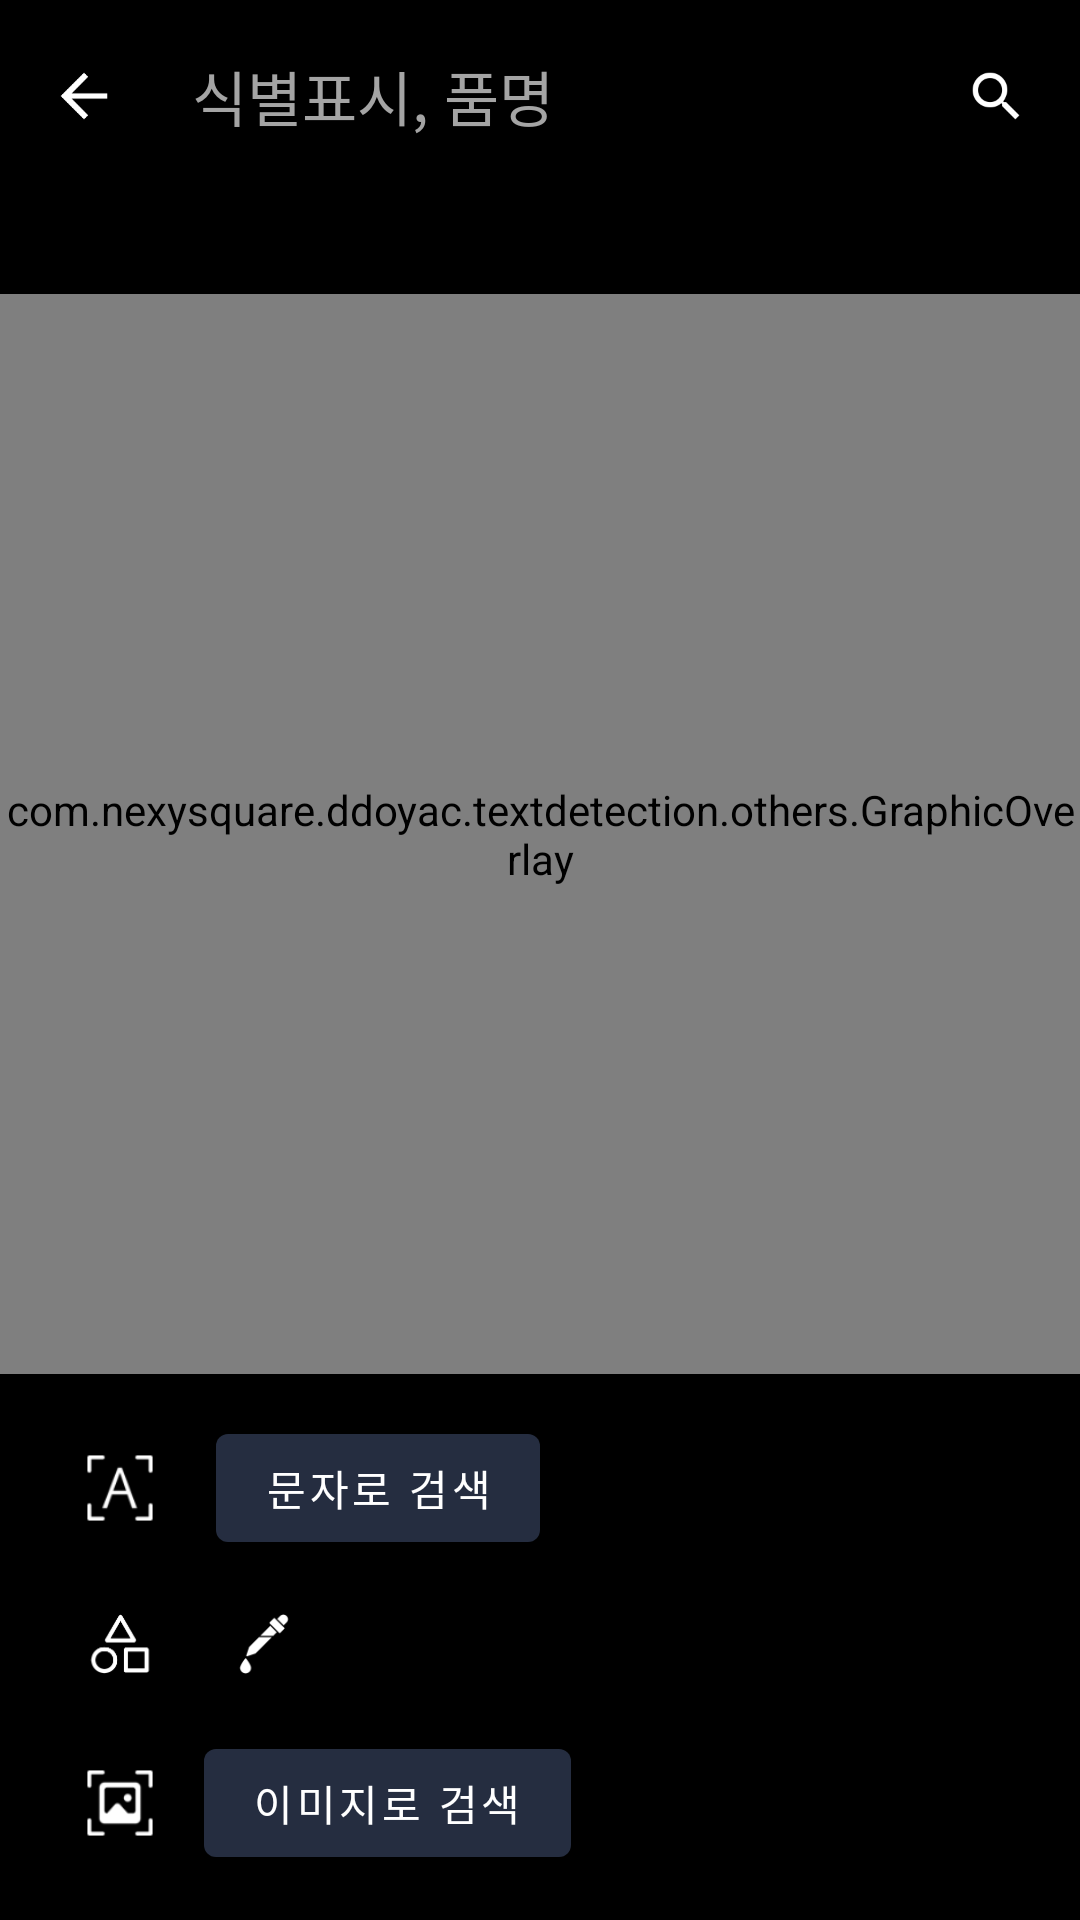

Screen size 1080px×1920px. Icon name, then its box in pixels as (x1, y1, x2, y2):
arrow back: (61, 73, 108, 119)
detection recognition: (87, 1770, 153, 1836)
detection recognition text: (87, 1455, 153, 1521)
dropper picker: (239, 1614, 289, 1674)
search: (972, 72, 1020, 120)
shape filter: (90, 1614, 150, 1674)
